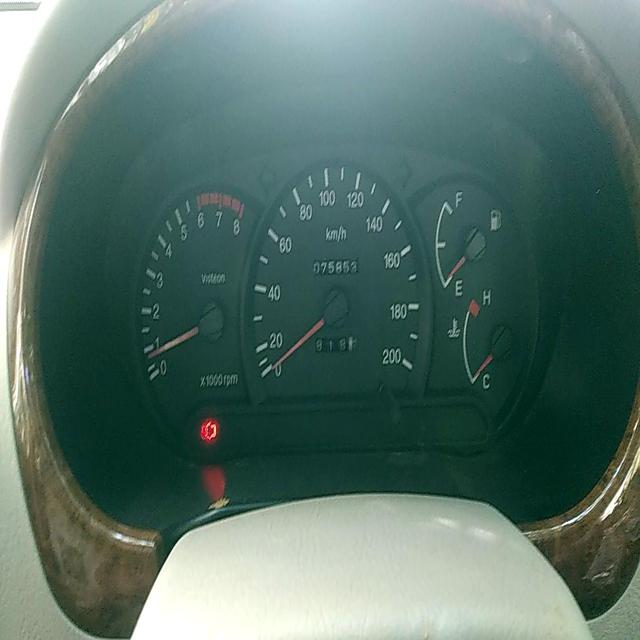odometer: (311, 253, 362, 279)
